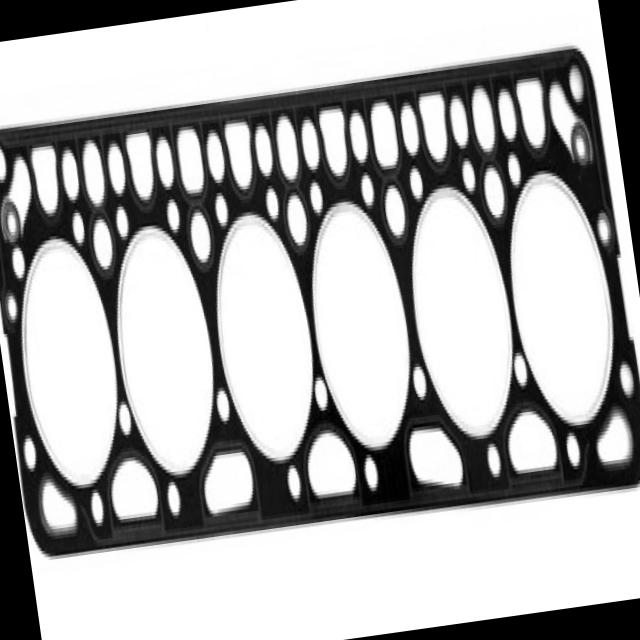missing hole: (578, 162, 600, 214)
